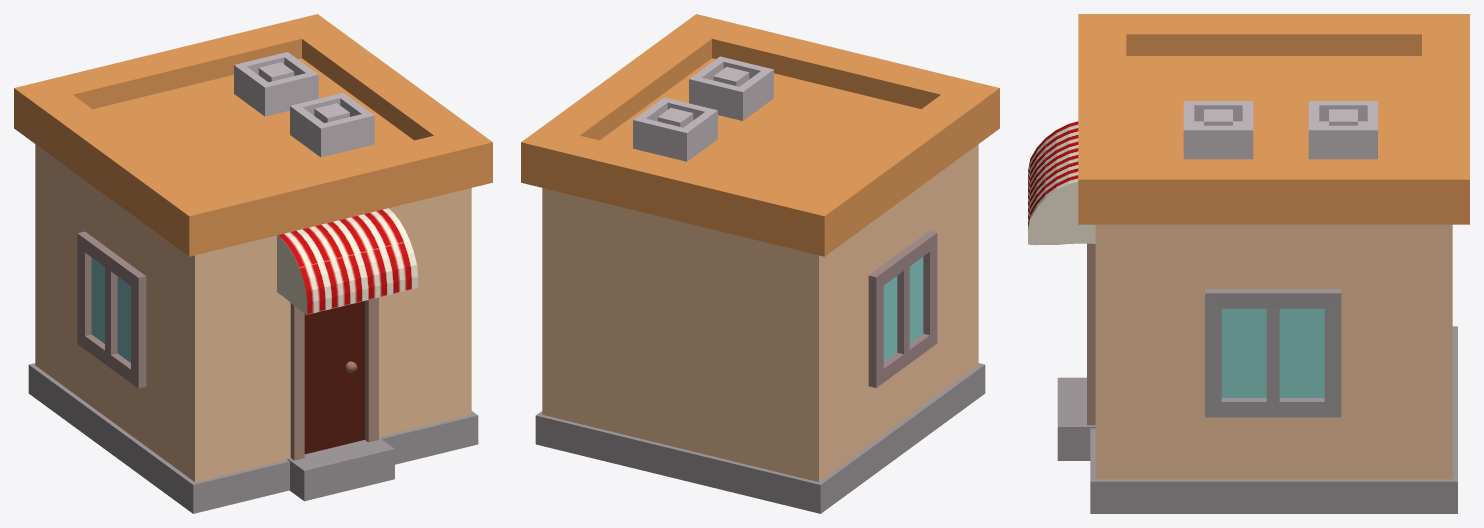
Rendered from dom3_fin.obj.
3 views of the same model, side by side, from view 1: azimuth 30°, elevation 25°; view 2: azimuth 150°, elevation 25°; view 3: azimuth 270°, elevation 25° (orthographic). The views are drawn at different scales.
Parts seen in each view (by area): view 1: dom1_Cube.001, kaemka_krishi_Cube.003, fundament_Cube.002, kozirek_Cylinder.005, Plane_Plane.002, okno1_Cube.004, stupenka_Cube.007, dvernaya_korobka_Cube.006, konder1_Cube.009, konder2_Cube.010, steklo2_Plane.001; view 2: dom1_Cube.001, kaemka_krishi_Cube.003, fundament_Cube.002, okno1_Cube.004, konder2_Cube.010, konder1_Cube.009, steklo2_Plane.001; view 3: kaemka_krishi_Cube.003, dom1_Cube.001, fundament_Cube.002, okno2_Cube.005, steklo1_Plane, kozirek_Cylinder.005, konder1_Cube.009, konder2_Cube.010, stupenka_Cube.007, dvernaya_korobka_Cube.006.
Boxes of the visible parts, x1,y1,x2,y2 form: dom1_Cube.001: (35,144,471,482); kaemka_krishi_Cube.003: (14,14,492,256); fundament_Cube.002: (28,363,478,513); kozirek_Cylinder.005: (277,208,417,314); Plane_Plane.002: (304,301,364,454); okno1_Cube.004: (77,231,146,388); stupenka_Cube.007: (287,437,394,501); dvernaya_korobka_Cube.006: (290,297,378,460); konder1_Cube.009: (290,93,374,157); konder2_Cube.010: (234,52,318,116); steklo2_Plane.001: (91,257,130,362); dom1_Cube.001: (542,144,978,482); kaemka_krishi_Cube.003: (521,14,999,256); fundament_Cube.002: (535,363,985,513); okno1_Cube.004: (868,231,937,387); konder2_Cube.010: (633,97,717,161); konder1_Cube.009: (689,56,773,120); steklo2_Plane.001: (883,257,923,362); kaemka_krishi_Cube.003: (1078,14,1469,224); dom1_Cube.001: (1095,224,1452,479); fundament_Cube.002: (1090,326,1457,513); okno2_Cube.005: (1205,289,1341,417); steklo1_Plane: (1221,308,1324,397); kozirek_Cylinder.005: (1028,121,1095,245); konder1_Cube.009: (1183,101,1253,159); konder2_Cube.010: (1308,101,1377,159); stupenka_Cube.007: (1057,377,1095,460); dvernaya_korobka_Cube.006: (1087,243,1095,425).
Size of the model in its own units: 2.19 by 2.17 by 2.48.
8 materials, 8 textured.
